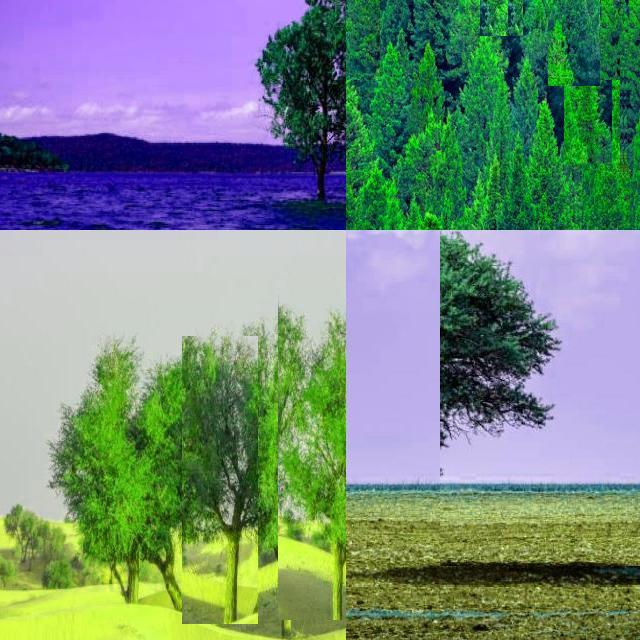tree: (440, 230, 640, 566), (47, 336, 191, 602), (226, 312, 334, 636), (278, 276, 346, 620), (182, 336, 258, 624), (254, 0, 346, 200), (288, 320, 346, 560), (507, 98, 573, 230), (455, 29, 513, 167), (582, 78, 630, 230), (564, 24, 612, 164), (1, 502, 67, 590), (386, 0, 462, 64), (548, 0, 600, 86), (408, 36, 448, 140), (376, 36, 409, 158), (616, 0, 640, 150), (596, 0, 640, 80), (620, 40, 640, 188), (512, 54, 544, 140), (346, 0, 380, 80), (346, 57, 368, 167), (498, 0, 544, 44), (624, 67, 640, 181), (624, 65, 640, 169), (624, 122, 640, 222), (618, 0, 640, 68), (592, 0, 636, 34), (624, 0, 640, 80), (442, 0, 478, 32), (491, 0, 523, 36), (480, 0, 508, 36), (624, 0, 640, 60), (626, 0, 640, 54), (624, 0, 640, 40), (628, 0, 640, 40), (624, 0, 640, 24), (628, 0, 640, 28), (628, 0, 640, 20)
